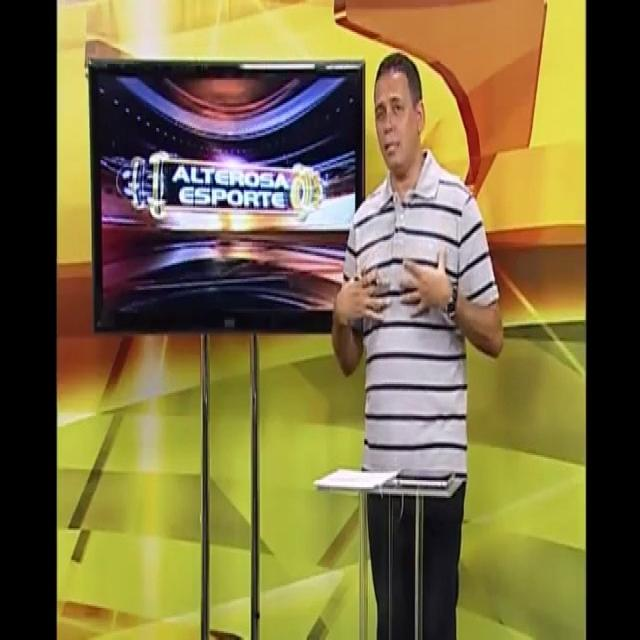Shirt: (342, 148, 499, 484)
